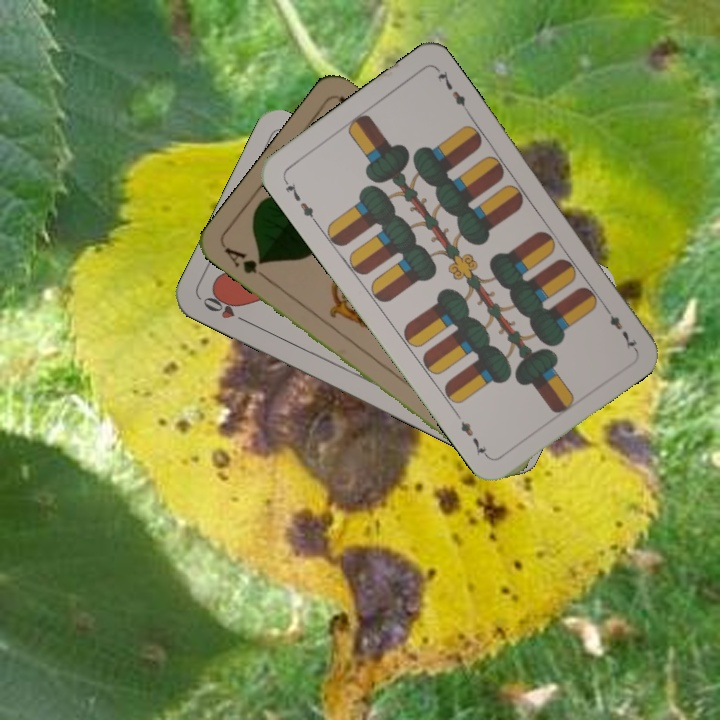E7: (599, 300, 640, 352), (279, 175, 320, 226)
GA: (220, 243, 272, 284)
HO: (198, 289, 253, 327)
